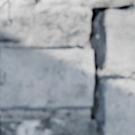brick: (0, 79, 134, 134), (0, 48, 92, 111), (100, 8, 134, 71), (0, 0, 31, 41), (38, 0, 134, 6)
crack: (87, 2, 134, 132)
